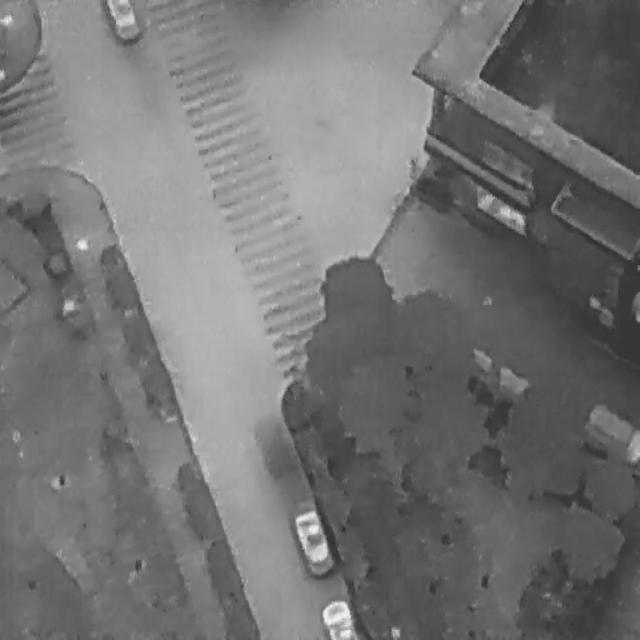Car: (290, 493, 336, 578), (319, 596, 358, 638), (102, 0, 140, 42)
